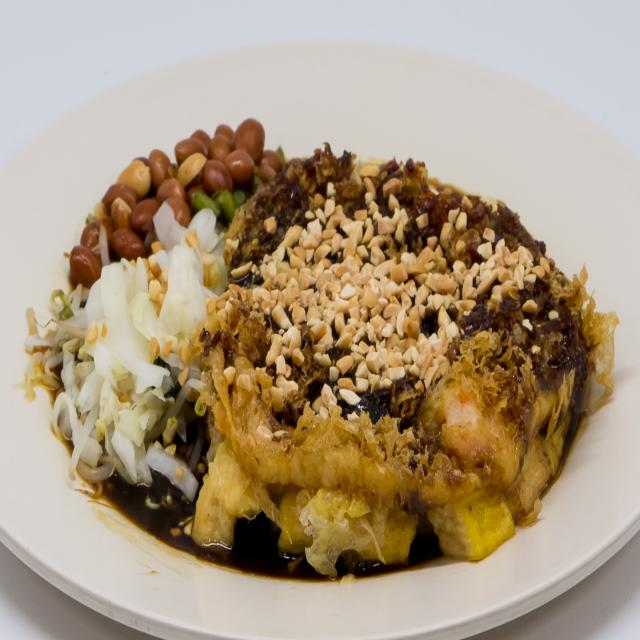Tahu-Telur: (32, 96, 622, 572)
